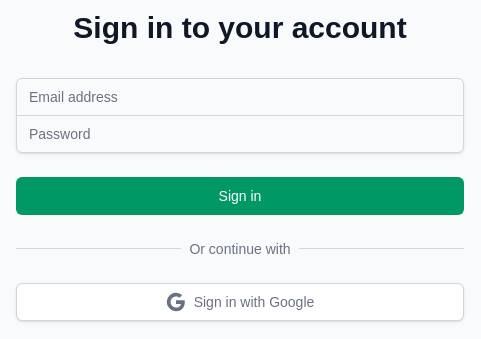
it: LoginForm Component › Edge Cases › should disable submit button while loading
Step 1. Type "test@example.com" into the field labelled "Email address" → (240, 96), box [16,78,464,116]
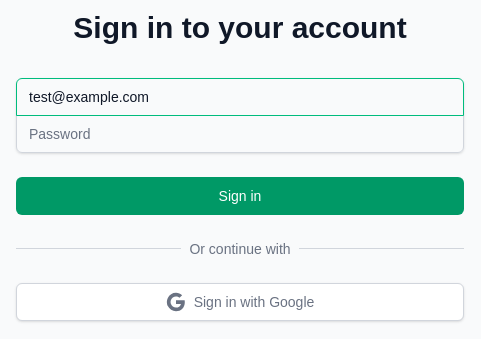
Step 2. Type "password123" into the password field labelled "Password" → (240, 134), box [16,114,464,152]
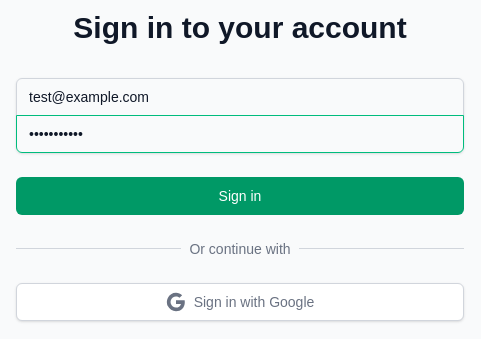
Step 3. Click the button "Sign in" → (240, 196), box [16,176,464,214]
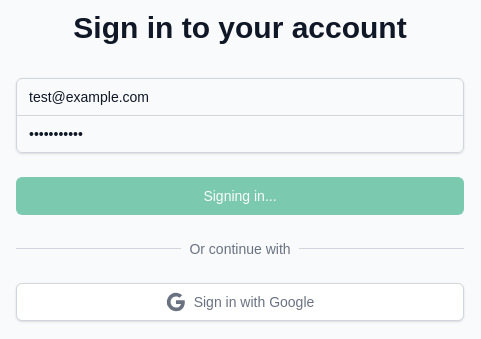
expect the button "Signing in..." is disabled: met, box [16,176,464,214]
